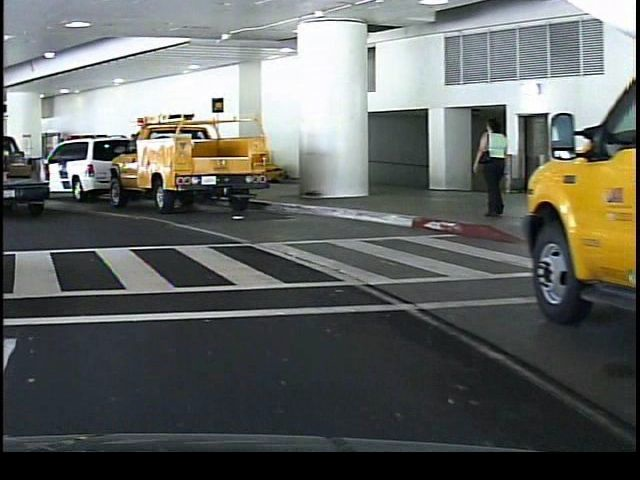person: (468, 114, 507, 225)
